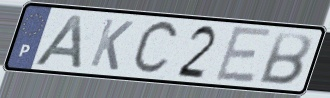2: (176, 24, 219, 81)
A: (31, 12, 84, 71)
B: (255, 30, 313, 87)
C: (129, 18, 182, 79)
E: (213, 24, 275, 85)
K: (86, 16, 136, 73)
